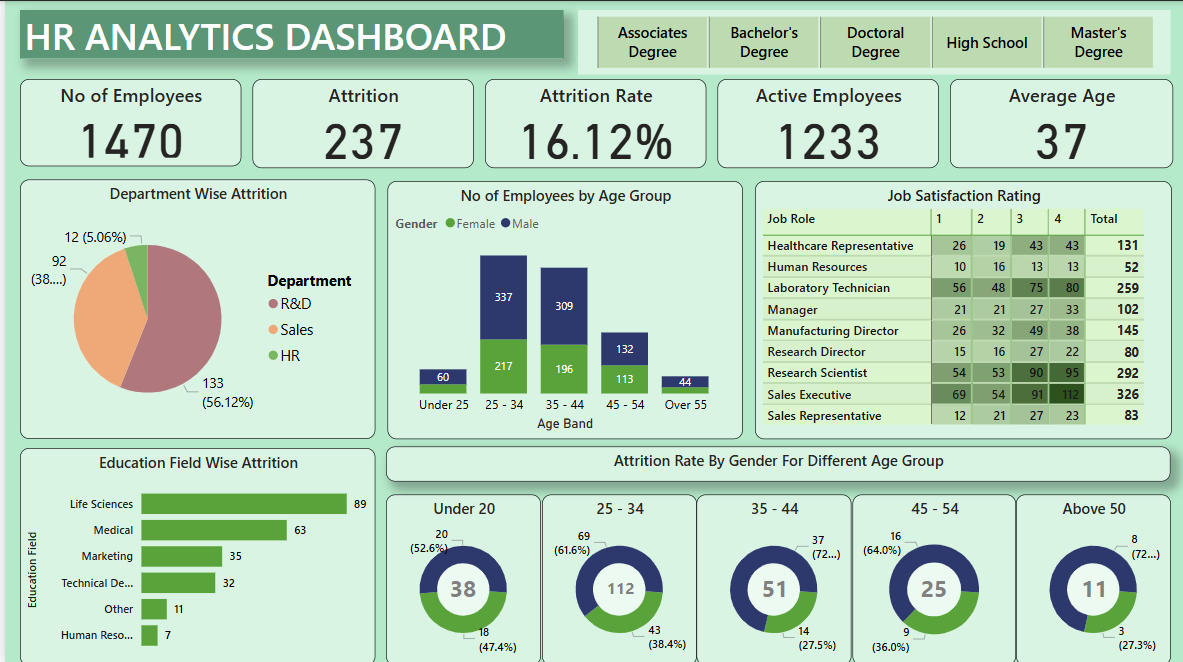

What the dashboard file says about the page in this screenshot:
{"tool":"powerbi","page":{"name":"Page 1","canvas":[1280,720],"ordinal":0},"visuals":[{"type":"card","title":"No of Employees","fields":{"Values":["Sum(HR data.Employee Count)"]},"box":[17,85,240,94.5],"z":0},{"type":"card","title":"Attrition","fields":{"Values":["Sum(HR data.Attrition Count)"]},"box":[268.3,85,240,96.4],"z":1000},{"type":"card","title":"Attrition Rate","fields":{"Values":["HR data.Attrition_Rate"]},"box":[519.7,85,240,96.4],"z":2000},{"type":"card","title":"Active Employees","fields":{"Values":["HR data.Active_Employees"]},"box":[772.9,85,240,96.4],"z":3000},{"type":"card","title":"Average Age","fields":{"Values":["Avg(HR data.Age)"]},"box":[1024.3,85,241.9,96.4],"z":4000},{"type":"pieChart","title":"Department Wise Attrition","fields":{"Category":["HR data.Department"],"Y":["Sum(HR data.Attrition Count)"]},"box":[16.3,193.6,385.5,281.4],"z":5000},{"type":"columnChart","title":"No of Employees by Age Group","fields":{"Category":["HR data.CF_age band"],"Y":["Sum(HR data.Employee Count)"],"Series":["HR data.Gender"]},"box":[414.8,195.2,385.5,279.8],"z":6000},{"type":"pivotTable","title":"Job Satisfaction Rating","fields":{"Rows":["HR data.Job Role"],"Columns":["HR data.Job Satisfaction"],"Values":["Sum(HR data.Employee Count)"]},"box":[813.3,195.2,452.2,279.8],"z":7000},{"type":"barChart","title":"Education Field Wise Attrition ","fields":{"Y":["Sum(HR data.Attrition Count)"],"Category":["HR data.Education Field"]},"box":[16.3,484.7,385.5,235.8],"z":8000},{"type":"textbox","title":"Attrition Rate By Gender For Different Age Group","box":[413.9,483.8,850.4,37.8],"z":9000},{"type":"card","fields":{"Values":["Sum(HR data.Attrition Count)"]},"box":[466.8,602.8,60.5,70],"z":10000},{"type":"donutChart","title":"Under 20","fields":{"Category":["HR data.Gender"],"Y":["Sum(HR data.Attrition Count)"],"Series":["HR data.CF_age band"]},"box":[413.9,534.8,168.2,185.2],"z":11000},{"type":"card","fields":{"Values":["Sum(HR data.Attrition Count)"]},"box":[636.9,602.8,60.5,69.9],"z":12000},{"type":"donutChart","title":"25 - 34","fields":{"Category":["HR data.Gender"],"Y":["Sum(HR data.Attrition Count)"],"Series":["HR data.CF_age band"]},"box":[582.1,534.8,168.2,185.2],"z":13000},{"type":"card","fields":{"Values":["Sum(HR data.Attrition Count)"]},"box":[805,602.8,60.5,69.9],"z":14000},{"type":"donutChart","title":"35 - 44","fields":{"Category":["HR data.Gender"],"Y":["Sum(HR data.Attrition Count)"],"Series":["HR data.CF_age band"]},"box":[750.2,534.8,168.2,185.2],"z":15000},{"type":"card","fields":{"Values":["Sum(HR data.Attrition Count)"]},"box":[977,602.8,60.5,69.9],"z":16000},{"type":"card","fields":{"Values":["Sum(HR data.Attrition Count)"]},"box":[1150.9,602.8,60.5,69.9],"z":17000},{"type":"donutChart","title":"45 - 54","fields":{"Category":["HR data.Gender"],"Y":["Sum(HR data.Attrition Count)"],"Series":["HR data.CF_age band"]},"box":[918.4,534.8,177.6,185.2],"z":18000},{"type":"donutChart","title":"Above 50","fields":{"Category":["HR data.Gender"],"Y":["Sum(HR data.Attrition Count)"],"Series":["HR data.CF_age band"]},"box":[1096.1,534.8,168.2,185.2],"z":19000},{"type":"textbox","title":"HR ANALYTICS DASHBOARD","box":[17,9.4,589.6,52.9],"z":20000},{"type":"slicer","fields":{"Values":["HR data.Education"]},"box":[621.7,9.4,642.5,69.9],"z":21000}]}

Visuals, with their boxes in screenshot pixels (x1, y1, x2, y2), scaled from the page's 1280x720 canvas onto the 1183x662 screenshot:
"No of Employees" card: 16,78,238,165
"Attrition" card: 248,78,470,167
"Attrition Rate" card: 480,78,702,167
"Active Employees" card: 714,78,936,167
"Average Age" card: 947,78,1170,167
"Department Wise Attrition" pieChart: 15,178,371,437
"No of Employees by Age Group" columnChart: 383,179,740,437
"Job Satisfaction Rating" pivotTable: 752,179,1170,437
"Education Field Wise Attrition " barChart: 15,446,371,661
"Attrition Rate By Gender For Different Age Group" textbox: 383,445,1168,480
card - Sum(HR data.Attrition Count): 431,554,487,619
"Under 20" donutChart: 383,492,538,661
card - Sum(HR data.Attrition Count): 589,554,645,619
"25 - 34" donutChart: 538,492,693,661
card - Sum(HR data.Attrition Count): 744,554,800,619
"35 - 44" donutChart: 693,492,849,661
card - Sum(HR data.Attrition Count): 903,554,959,619
card - Sum(HR data.Attrition Count): 1064,554,1120,619
"45 - 54" donutChart: 849,492,1013,661
"Above 50" donutChart: 1013,492,1168,661
"HR ANALYTICS DASHBOARD" textbox: 16,9,561,57
slicer - HR data.Education: 575,9,1168,73
